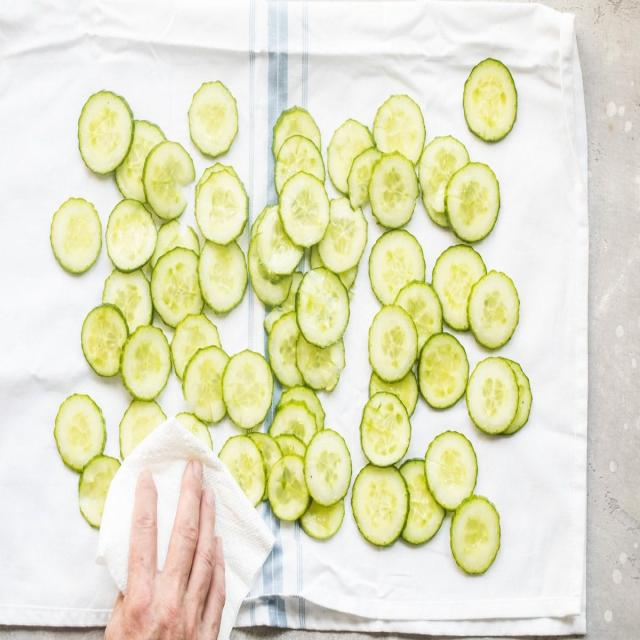Pickle: (78, 90, 134, 174), (462, 58, 518, 142), (419, 135, 469, 227), (444, 163, 500, 243), (295, 268, 350, 349), (150, 248, 204, 327), (195, 169, 249, 246), (466, 358, 519, 435), (279, 172, 330, 248), (418, 334, 469, 409), (106, 199, 158, 272), (360, 392, 411, 466), (368, 154, 419, 228), (369, 306, 418, 382), (189, 81, 238, 157), (198, 240, 248, 313), (304, 429, 351, 506), (182, 347, 229, 423), (394, 281, 442, 355), (81, 304, 129, 377), (258, 206, 304, 278), (268, 454, 310, 520), (296, 336, 345, 391), (269, 401, 318, 444)
